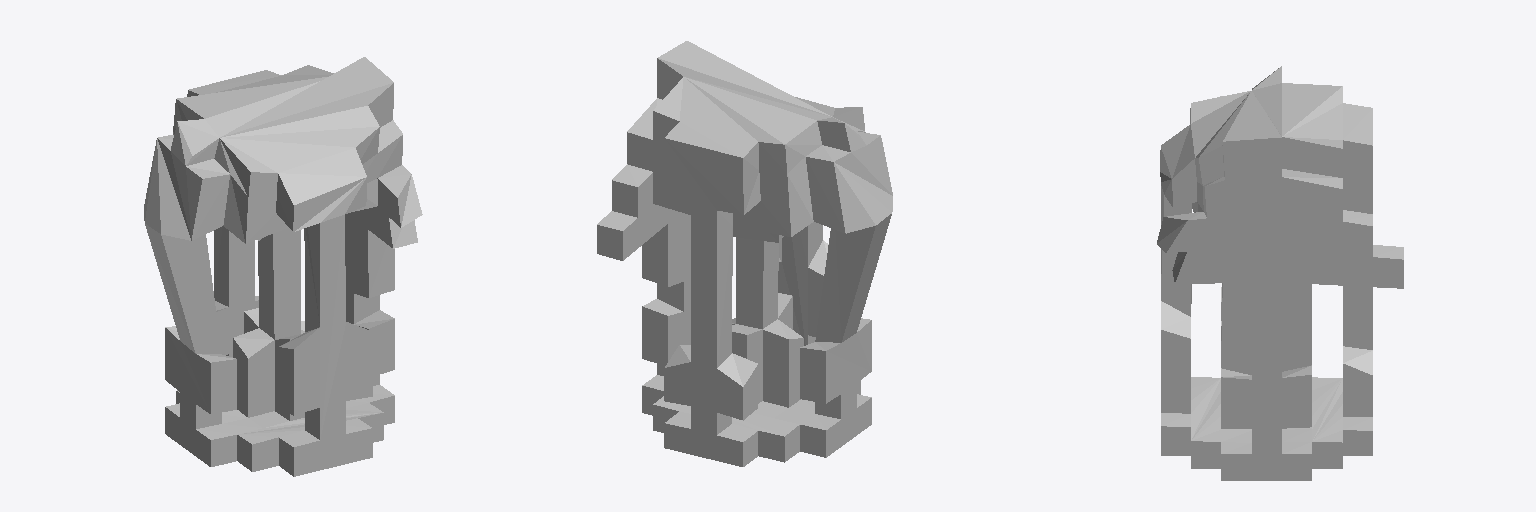
The model's file is Bot1-0.obj.
3 views of the same model, side by side, from view 1: azimuth 30°, elevation 25°; view 2: azimuth 150°, elevation 25°; view 3: azimuth 270°, elevation 25° (orthographic).
Visible parts, largest first — view 1: Bot1-0.002; view 2: Bot1-0.002; view 3: Bot1-0.002.
Boxes of the visible parts, x1=… form: Bot1-0.002: x1=144, y1=57, x2=422, y2=476; Bot1-0.002: x1=597, y1=41, x2=892, y2=466; Bot1-0.002: x1=1157, y1=66, x2=1403, y2=480.
Bounding box in the file's own units: 0.8337 × 1.25 × 0.8136.